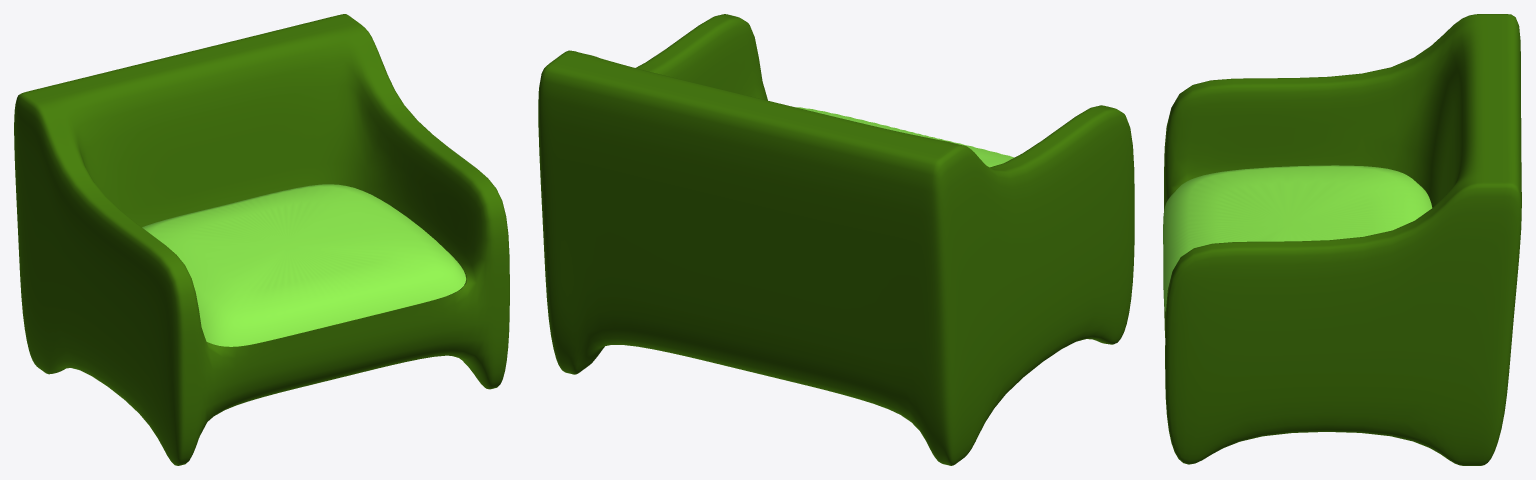
File: Sofa-1.fbx
The picture shows the model from 3 angles, left to right: view 1: azimuth 30°, elevation 25°; view 2: azimuth 150°, elevation 25°; view 3: azimuth 270°, elevation 25°; orthographic projection. The views are drawn at different scales.
Parts seen in each view (by area): view 1: Sofa.004; view 2: Sofa.004; view 3: Sofa.004.
Boxes of the visible parts, x1,y1,x2,y2 form: Sofa.004: (14,14,509,465); Sofa.004: (538,14,1134,465); Sofa.004: (1163,14,1521,465).
Bounding box in the file's own units: 3.67 × 2.72 × 3.13.
